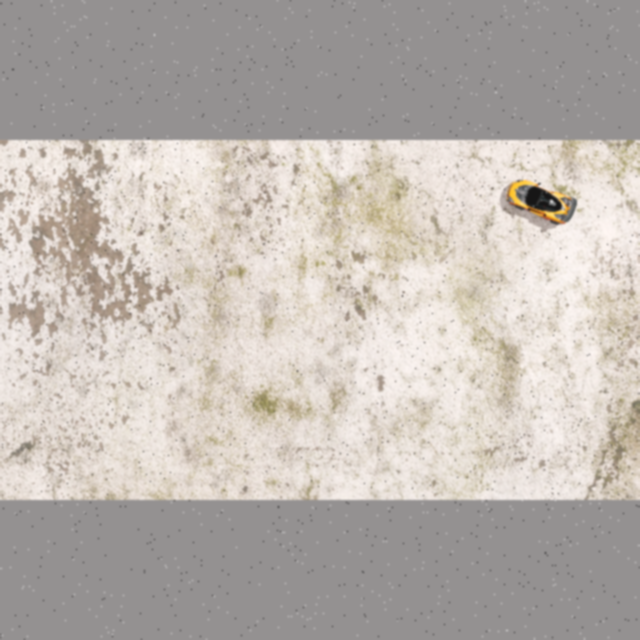car: (501, 172, 580, 229)
